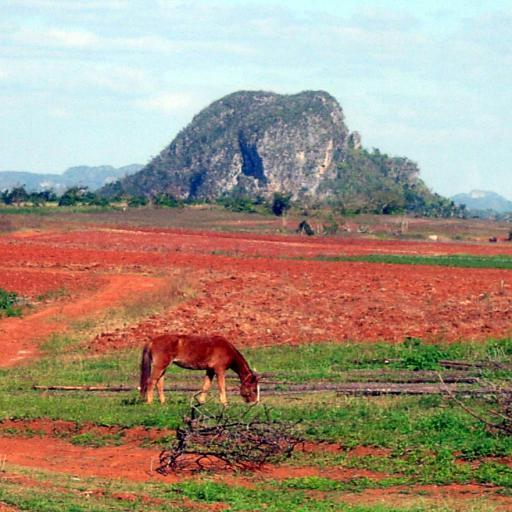horse: (137, 332, 265, 404)
